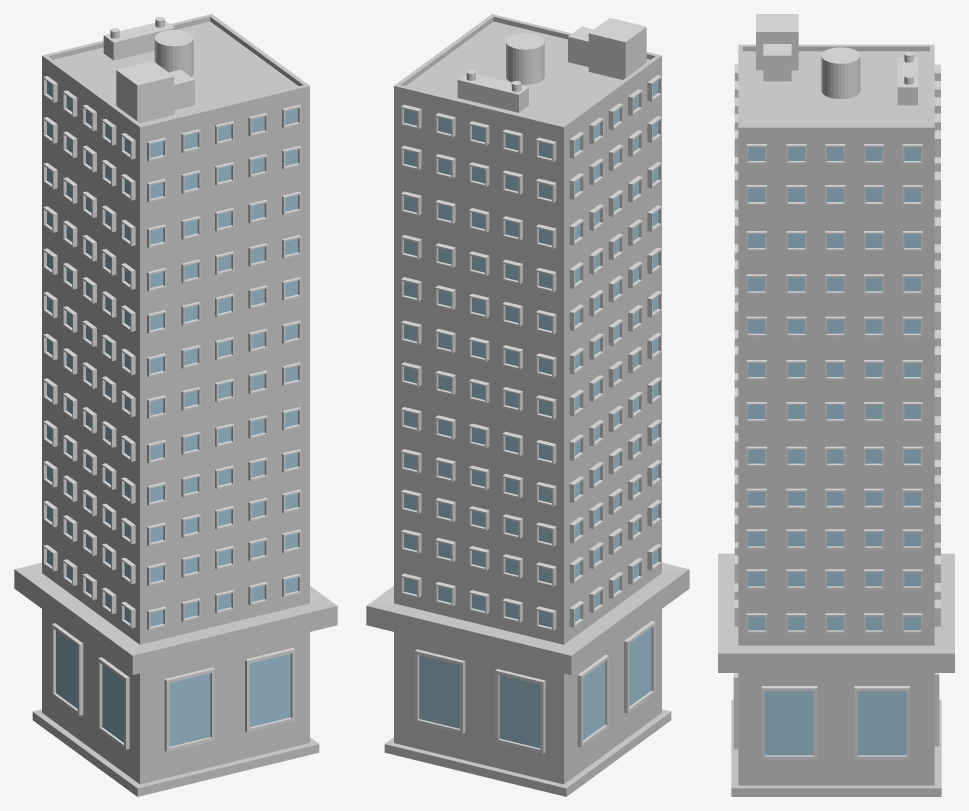
Rendered from Apartment B.fbx.
The picture shows the model from 3 angles, left to right: view 1: azimuth 30°, elevation 25°; view 2: azimuth 150°, elevation 25°; view 3: azimuth 270°, elevation 25°; orthographic projection.
Parts seen in each view (by area): view 1: Cube, Plane.246, Plane.247, Cube.001, Plane.242, Plane.243, Cylinder, Cube.003, Cube.002; view 2: Cube, Plane.244, Plane.245, Cube.001, Plane.243, Plane.242, Cylinder, Cube.003, Cube.002; view 3: Cube, Plane.060, Plane.061, Cylinder, Cube.001, Cube.002, Cube.003, Plane.247, Plane.244, Plane.036, Plane.041, Plane.046 (+25 smaller).
Part boxes in pixels (x1,y1,x2,y2): Cube: (14,14,337,796); Plane.246: (164,667,214,751); Plane.247: (245,648,295,732); Cube.001: (116,61,174,123); Plane.242: (51,623,83,715); Plane.243: (98,657,129,749); Cylinder: (154,30,193,76); Cube.003: (103,20,174,60); Cube.002: (169,69,194,110); Cube: (366,14,689,796); Plane.244: (414,649,465,733); Plane.245: (495,669,545,753); Cube.001: (588,18,646,79); Plane.243: (624,621,655,713); Plane.242: (577,655,608,747); Cylinder: (506,33,544,84); Cube.003: (457,73,528,112); Cube.002: (568,26,593,66); Cube: (718,44,954,796); Plane.060: (761,686,817,759); Plane.061: (854,686,909,759); Cylinder: (821,47,860,98); Cube.001: (756,14,798,70); Cube.002: (763,44,791,81); Cube.003: (897,57,917,105); Plane.247: (733,673,738,749); Plane.244: (934,673,939,746); Plane.036: (786,529,806,549); Plane.041: (786,569,806,589); Plane.046: (786,613,806,633).
Size of the model in its own units: 2338 by 7627 by 2338.
